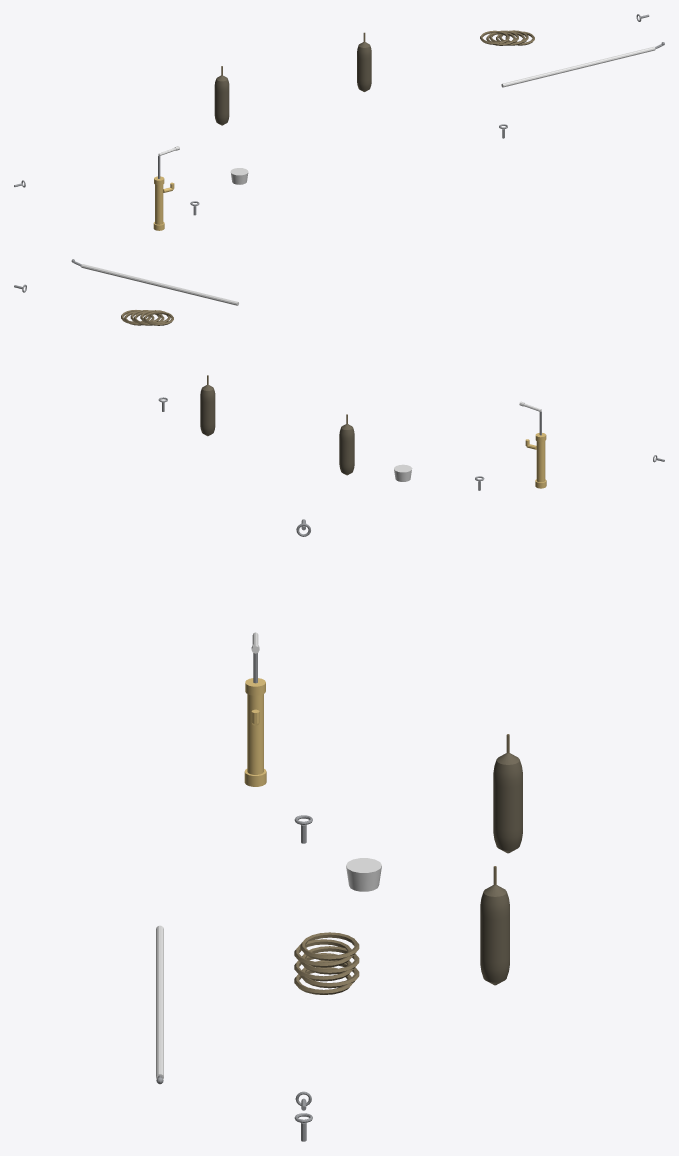
Rendered from Fittings.fbx.
The picture shows the model from 3 angles, top to bottom: view 1: azimuth 30°, elevation 25°; view 2: azimuth 150°, elevation 25°; view 3: azimuth 270°, elevation 25°; orthographic projection. The views are drawn at different scales.
Parts seen in each view (by area): view 1: Fittings; view 2: Fittings; view 3: Fittings.
Part boxes in pixels (<box>): Fittings: <box>14,14,664,230</box>; Fittings: <box>14,259,664,490</box>; Fittings: <box>156,519,522,1141</box>.
Bounding box in the file's own units: 7.29 × 1.09 × 1.83.
